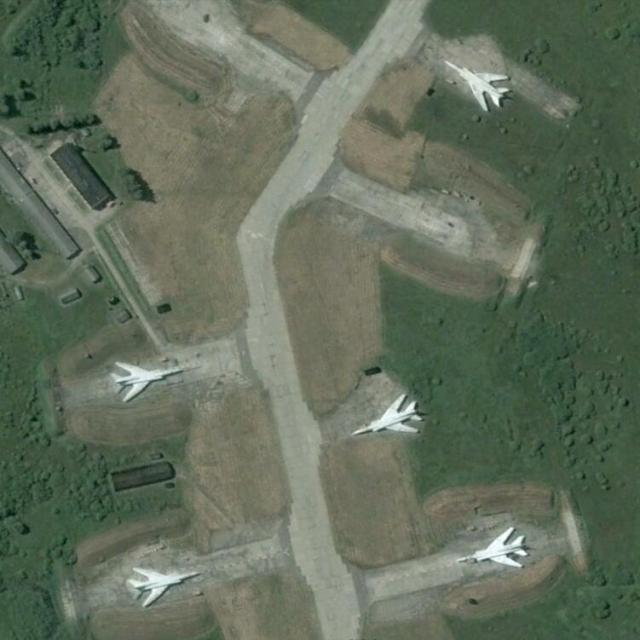fighter jet: (446, 526, 539, 575), (436, 54, 520, 105), (102, 356, 194, 402), (121, 567, 205, 609), (358, 402, 442, 443)
